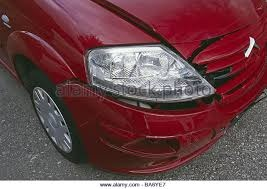Broken-glass: (83, 44, 211, 108)
Smashed: (58, 79, 219, 173), (192, 34, 252, 92)
